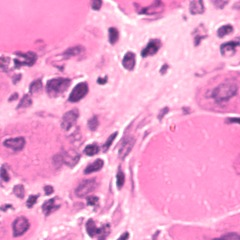New: (1, 118, 69, 184), (1, 207, 43, 240)
